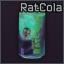Can of RatCola: (0, 0, 64, 64)
